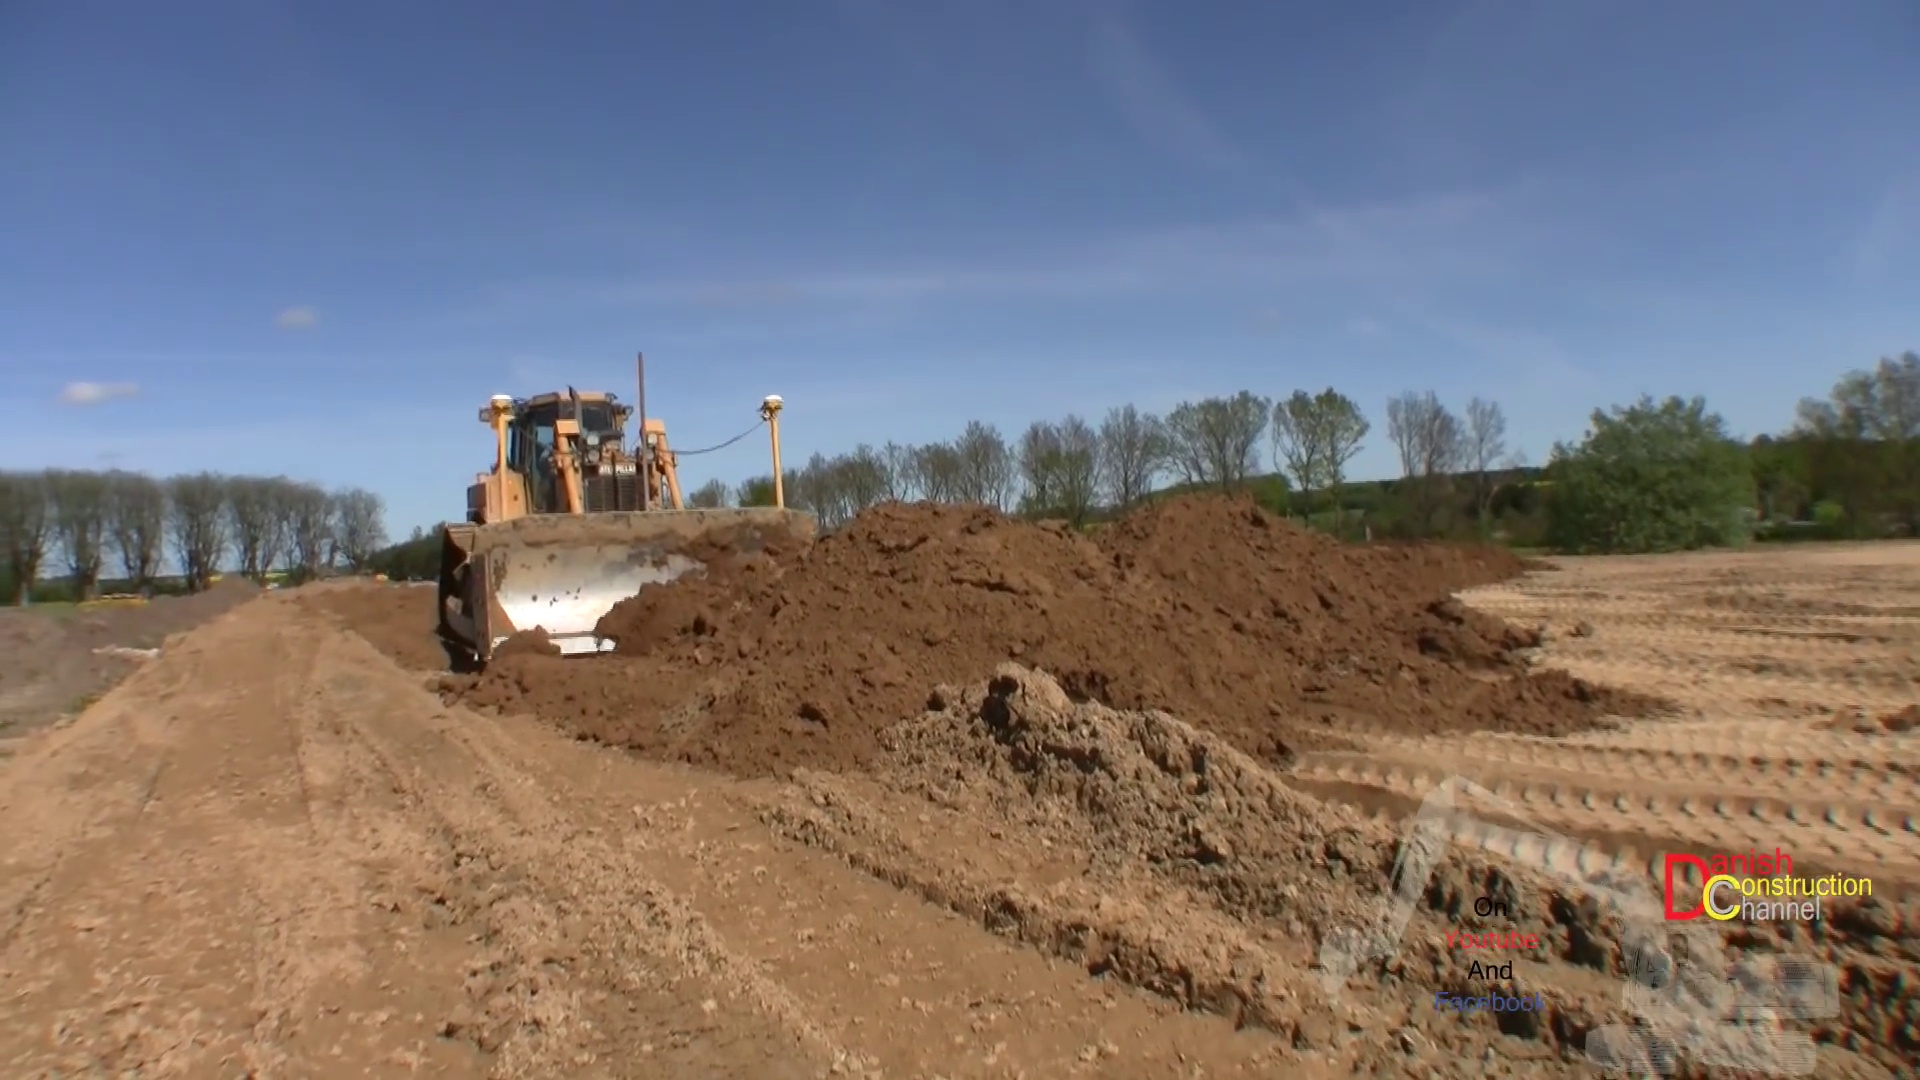bulldozer: (429, 386, 829, 661)
